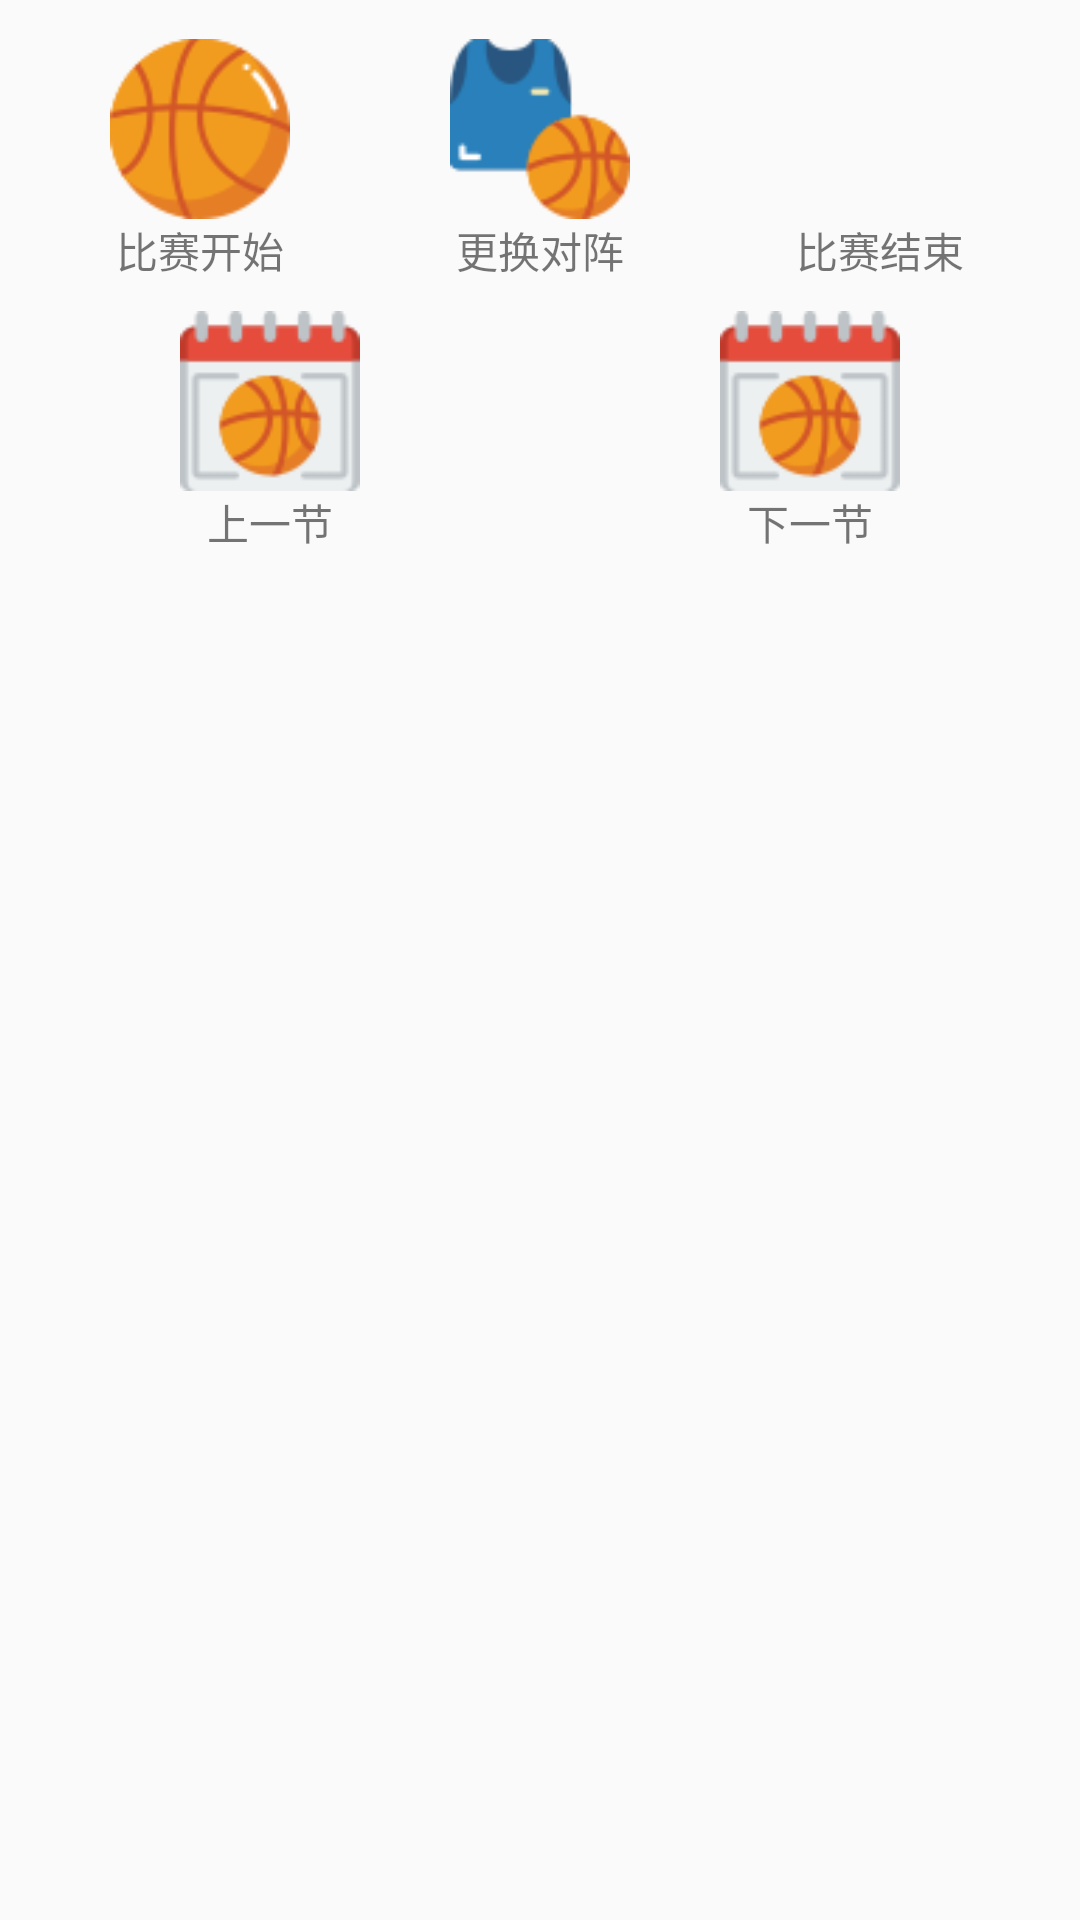

Icons on this 1080*1920 Android screen, each with the point to tap as (x,y):
result ball: (200,129)
result calendar: (270,401), (810,401)
result vest: (540,129)
